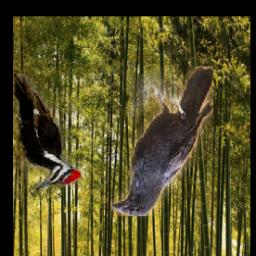Crow: (111, 67, 214, 217)
Woodpecker: (14, 73, 82, 190)
